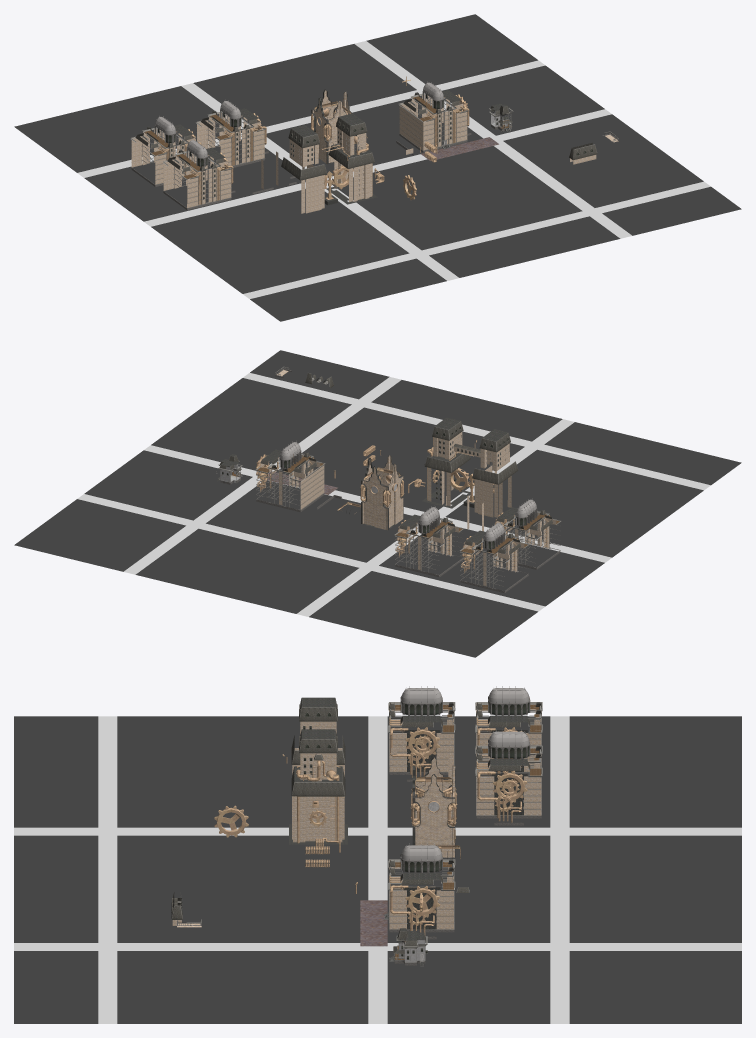
The model's file is TestBuildingJoint-v3.glb.
3 renders of one model, top to bottom at view 1: azimuth 30°, elevation 25°; view 2: azimuth 150°, elevation 25°; view 3: azimuth 270°, elevation 25°, orthographic. The views are drawn at different scales.
Visible parts, largest first — view 1: Floor, Roof1.033; view 2: Floor, Roof1.033; view 3: Floor, Roof1.033.
Boxes of the visible parts, <box> form: Floor: <box>14,14,741,321</box>; Roof1.033: <box>131,76,618,213</box>; Floor: <box>14,350,741,657</box>; Roof1.033: <box>216,366,561,593</box>; Floor: <box>14,716,741,1023</box>; Roof1.033: <box>171,686,542,966</box>.
Bounding box in the file's own units: 160 × 38.68 × 160.
3 materials, 1 textured.
